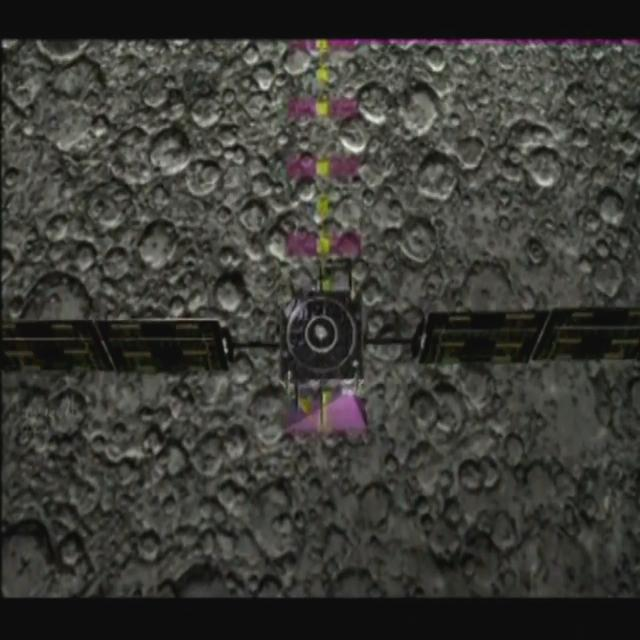satellite: (0, 258, 640, 442)
